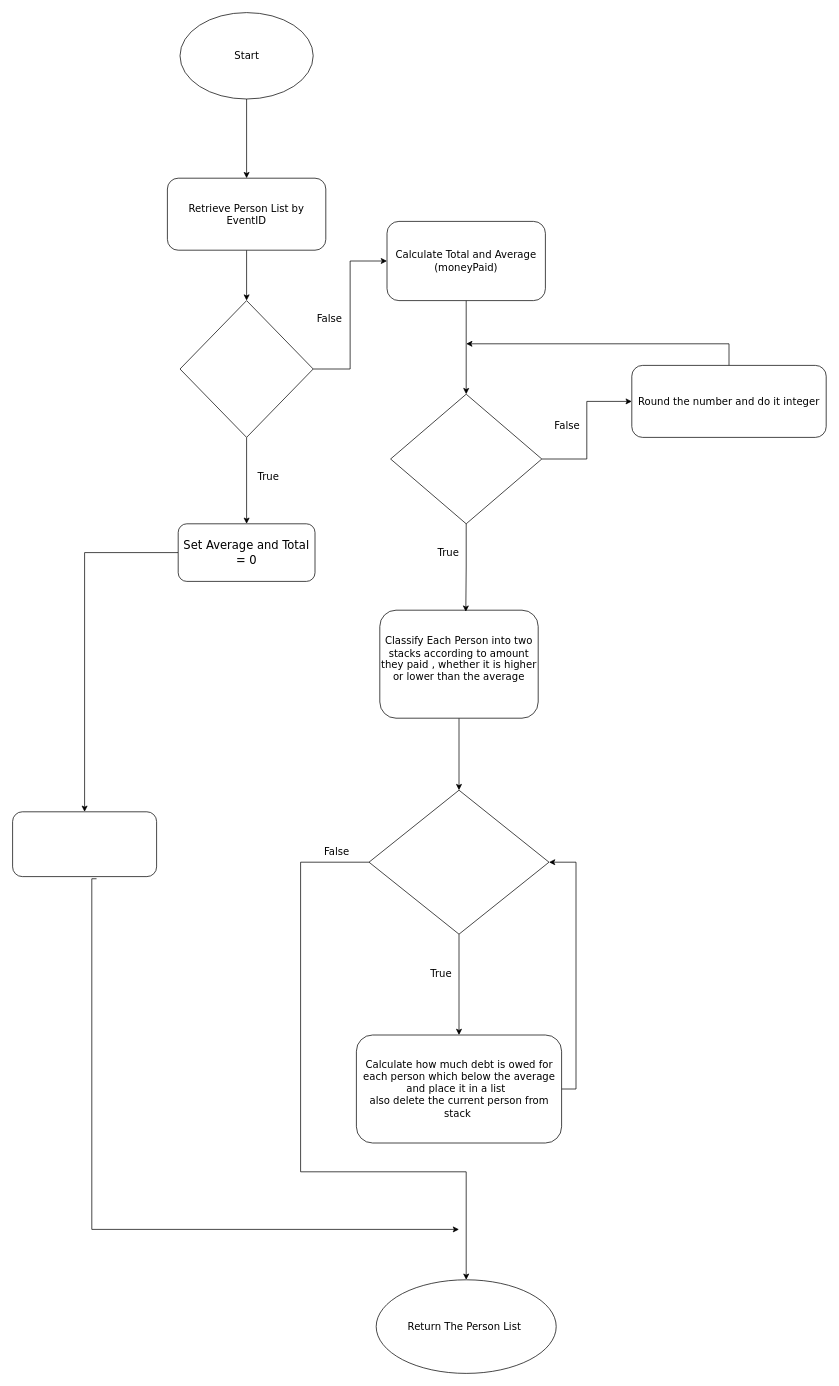
Image size: 839x1386. Some labels were removed from this diagram. Here are the shapes that lost their labels. From the top down, the centre of each, then its label:
At (x=246, y=368): "Person List İs Empty ?".
At (x=466, y=458): "is total or averages are integer".
At (x=84, y=844): "Create Empty Person List".
At (x=458, y=861): "While Both Stacks are Non-Empty".
